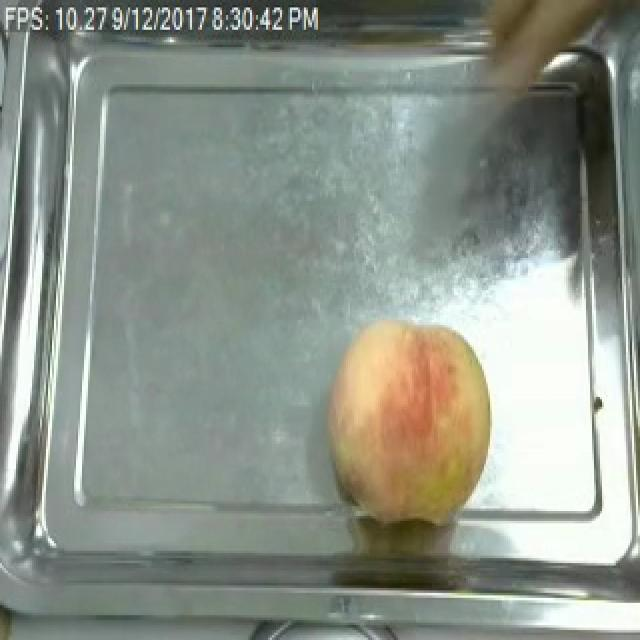Fruit: (316, 310, 502, 528)
